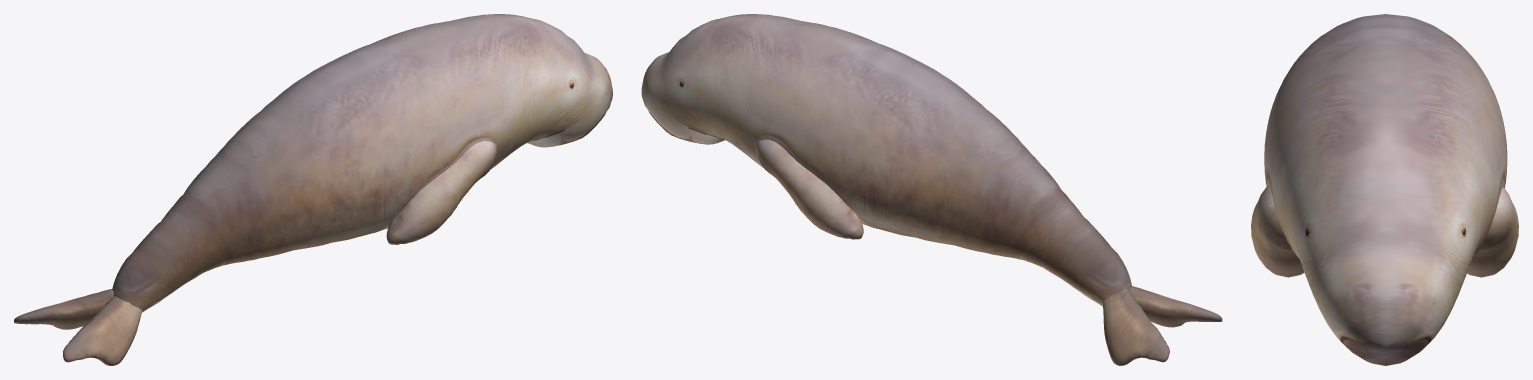
Rendered from dugong.glb.
The picture shows the model from 3 angles, left to right: view 1: azimuth 30°, elevation 25°; view 2: azimuth 150°, elevation 25°; view 3: azimuth 270°, elevation 25°; orthographic projection. The views are drawn at different scales.
Parts seen in each view (by area): view 1: mm_frame (37); view 2: mm_frame (37); view 3: mm_frame (37).
Boxes of the visible parts, bbox=[...] form: mm_frame (37): bbox=[14, 14, 612, 365]; mm_frame (37): bbox=[641, 14, 1222, 365]; mm_frame (37): bbox=[1251, 14, 1518, 365].
Size of the model in its own units: 8.92 by 3.54 by 2.5.
1 material, 1 textured.
